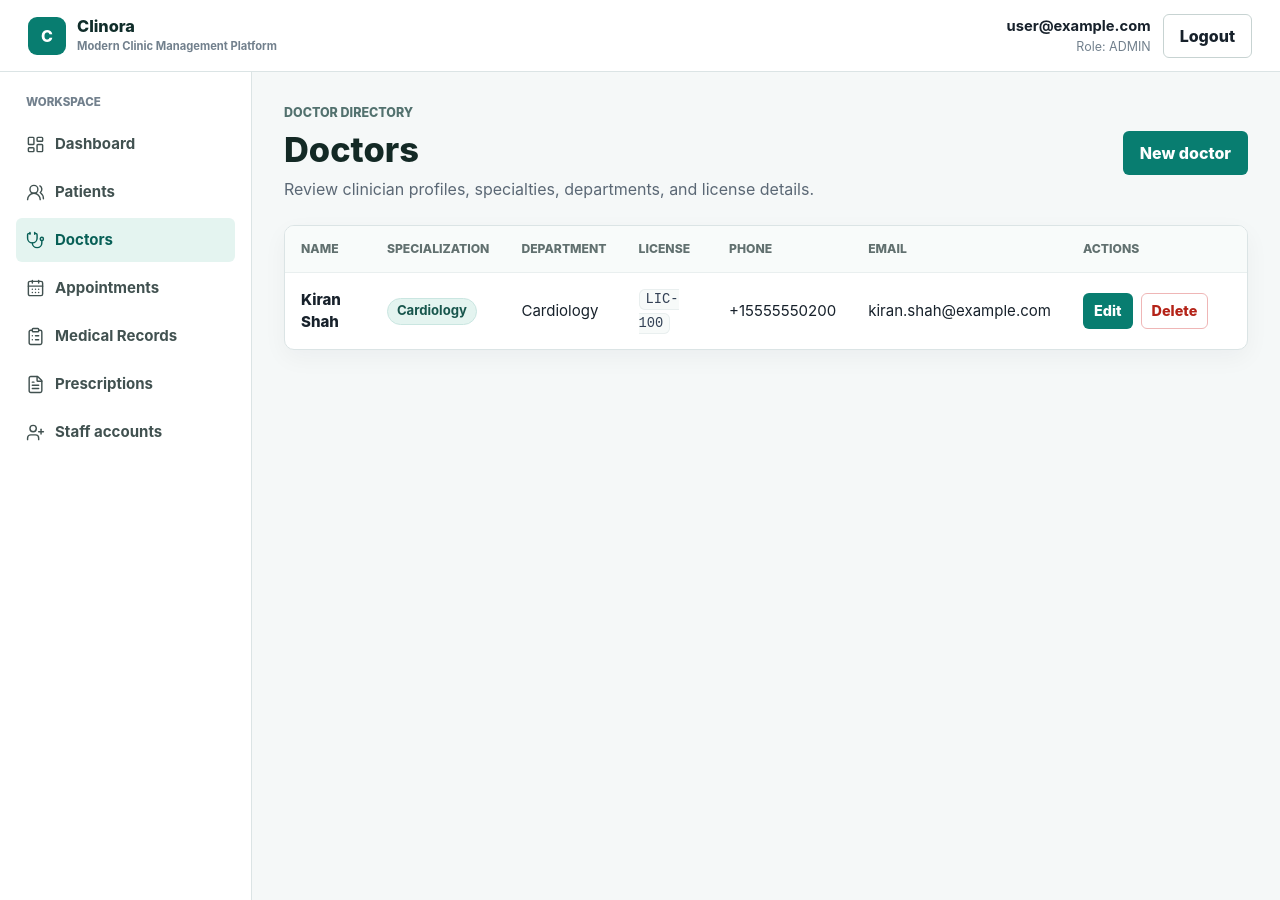
Test: DoctorsPage › updates an existing doctor
Click the button "Edit" at (1108, 311), box [1083, 293, 1132, 329]
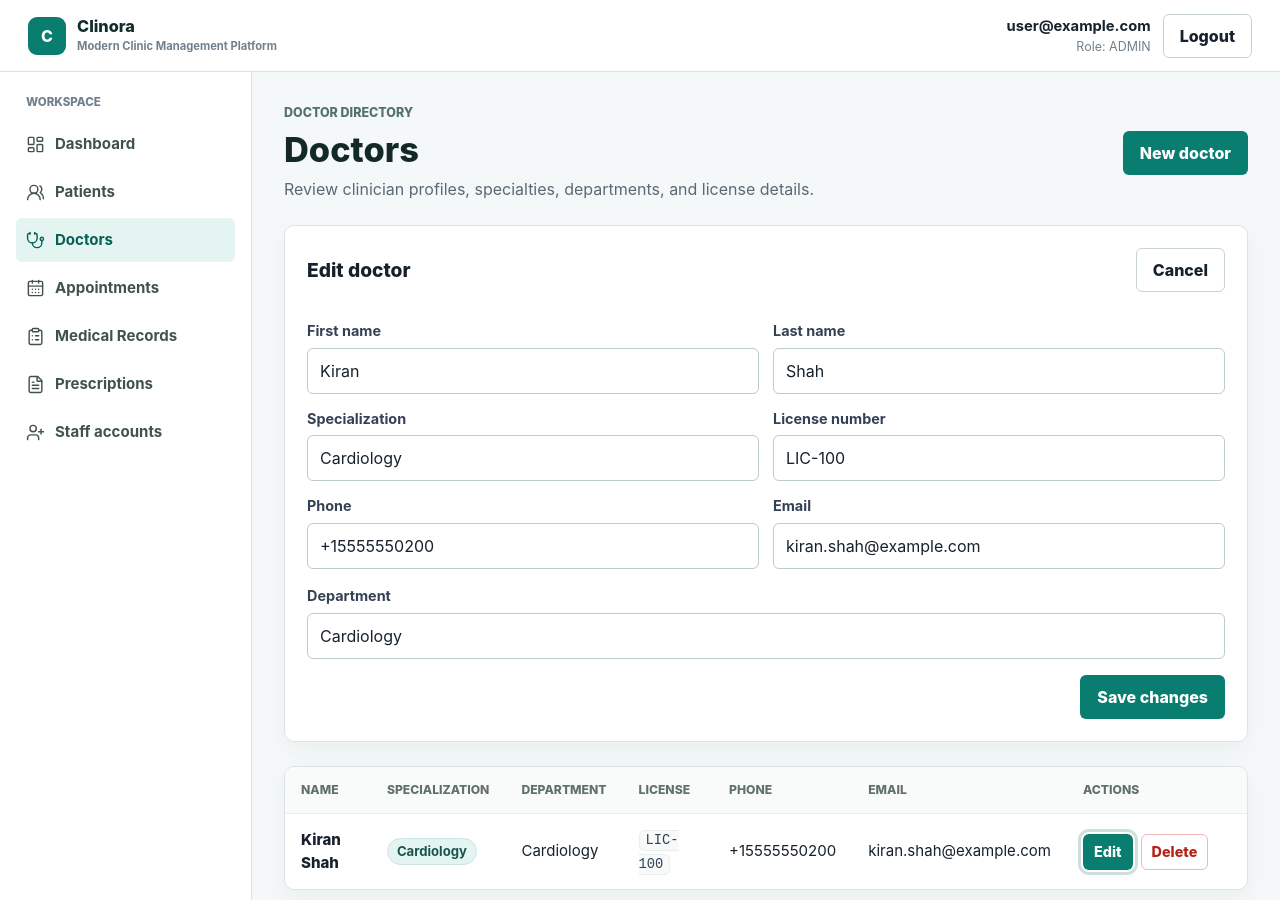
Replace the text in the field labelled "Department" with "Emergency Medicine" at (766, 636), box [307, 613, 1225, 659]
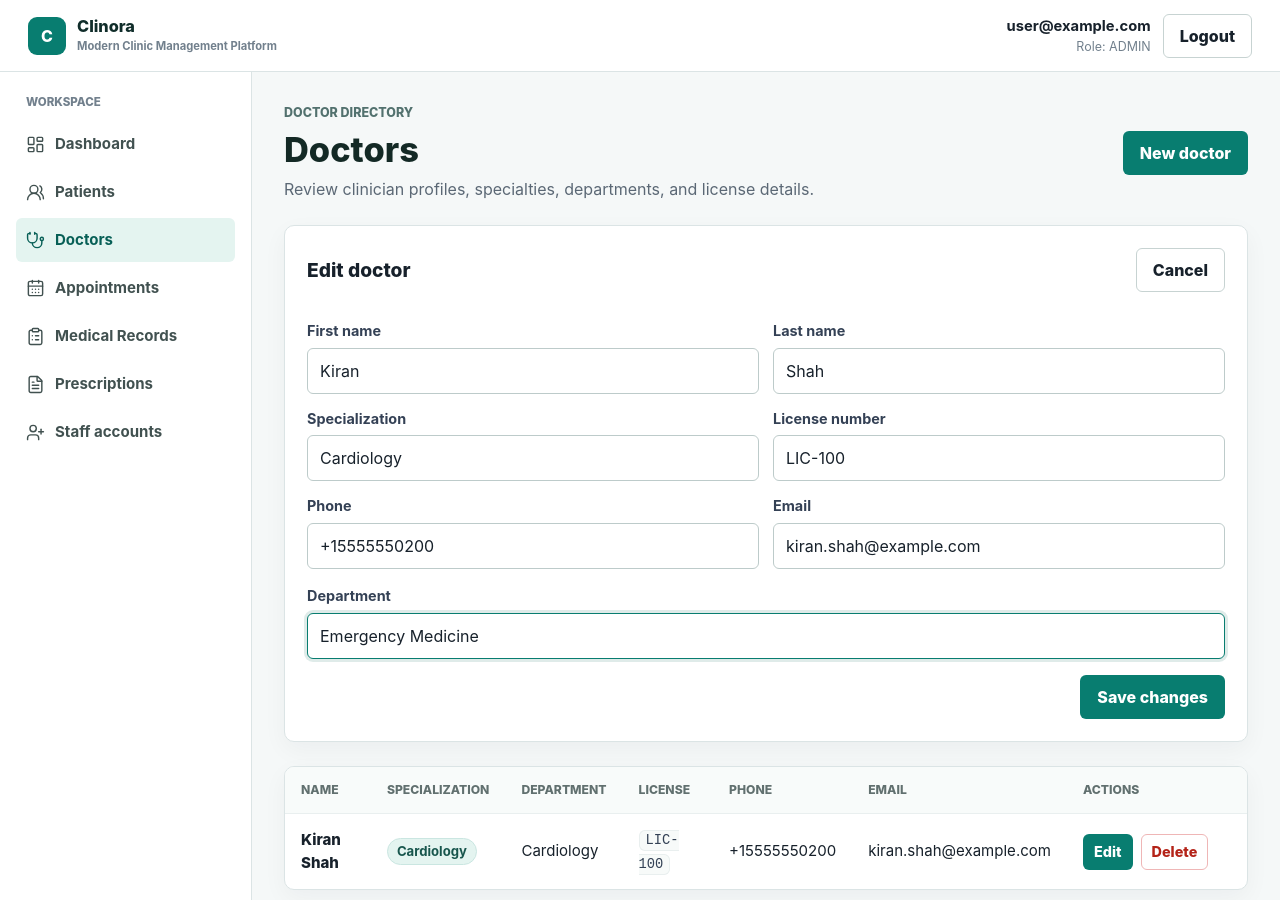
Click the button "Save changes" at (1153, 697), box [1080, 675, 1225, 719]
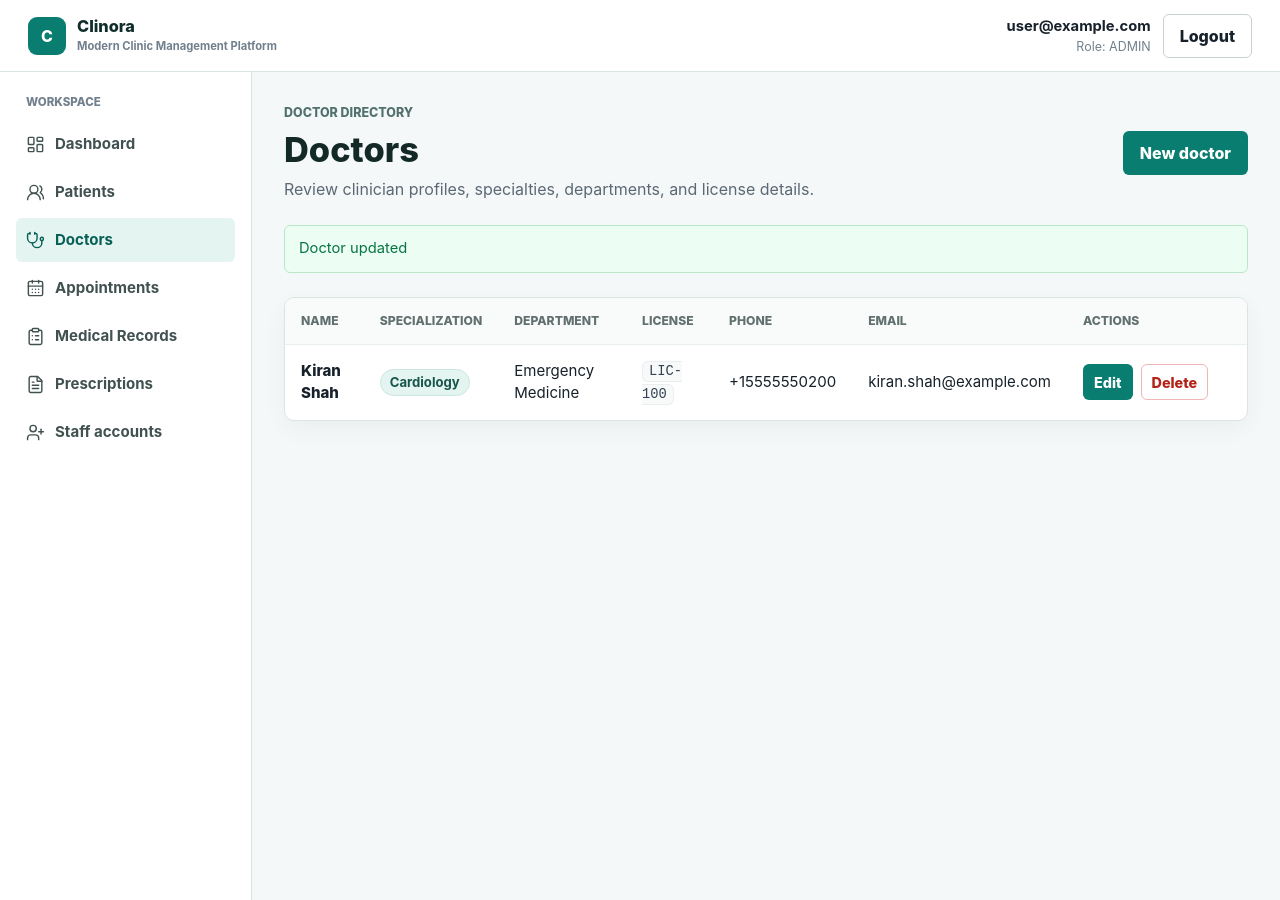
Expected: the message reads "Doctor updated", [299, 239, 407, 257]
Expected: the text "Emergency Medicine" is shown, [498, 344, 626, 420]
